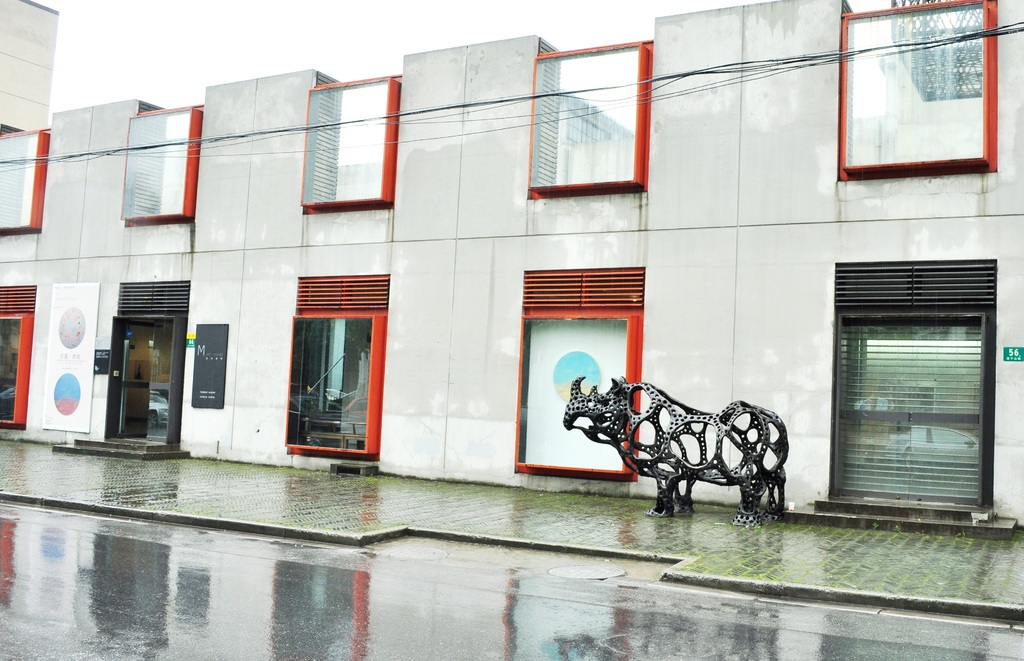Animal: (561, 368, 789, 526)
